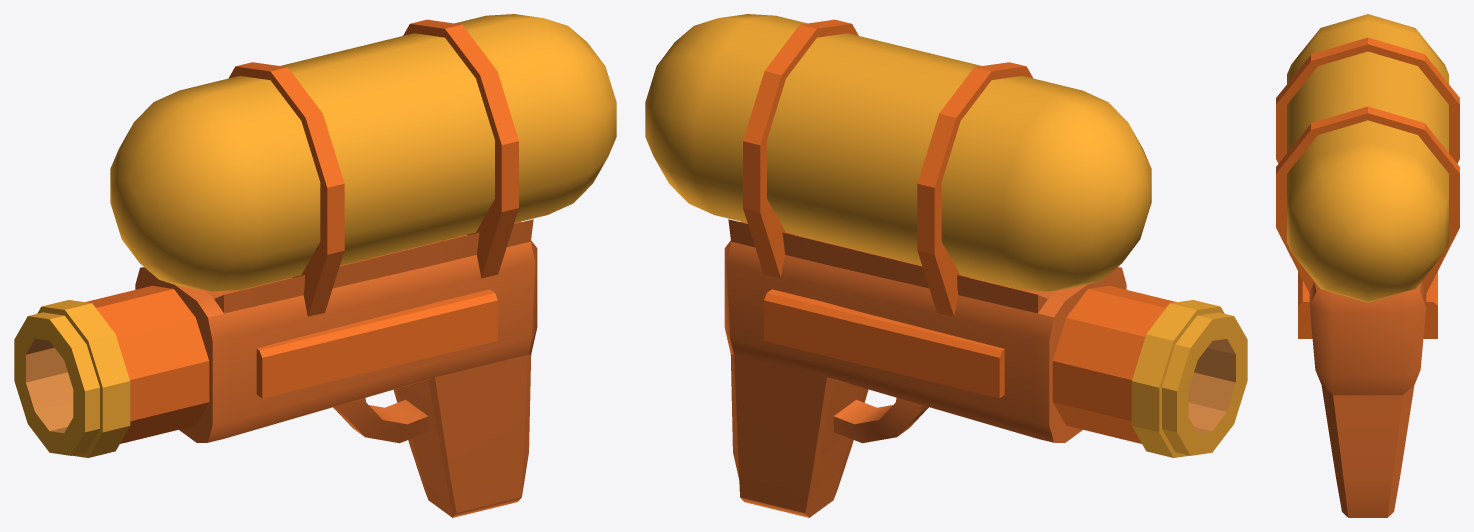
File: SR_Gun_Orange.fbx
The picture shows the model from 3 angles, left to right: view 1: azimuth 30°, elevation 25°; view 2: azimuth 150°, elevation 25°; view 3: azimuth 270°, elevation 25°; orthographic projection. The views are drawn at different scales.
Parts seen in each view (by area): view 1: SR_Gun_Enemy; view 2: SR_Gun_Enemy; view 3: SR_Gun_Enemy.
Part boxes in pixels (x1=…): SR_Gun_Enemy: x1=14, y1=14, x2=616, y2=517; SR_Gun_Enemy: x1=645, y1=14, x2=1247, y2=517; SR_Gun_Enemy: x1=1276, y1=14, x2=1459, y2=517.
Size of the model in its own units: 171 by 141 by 60.59.
